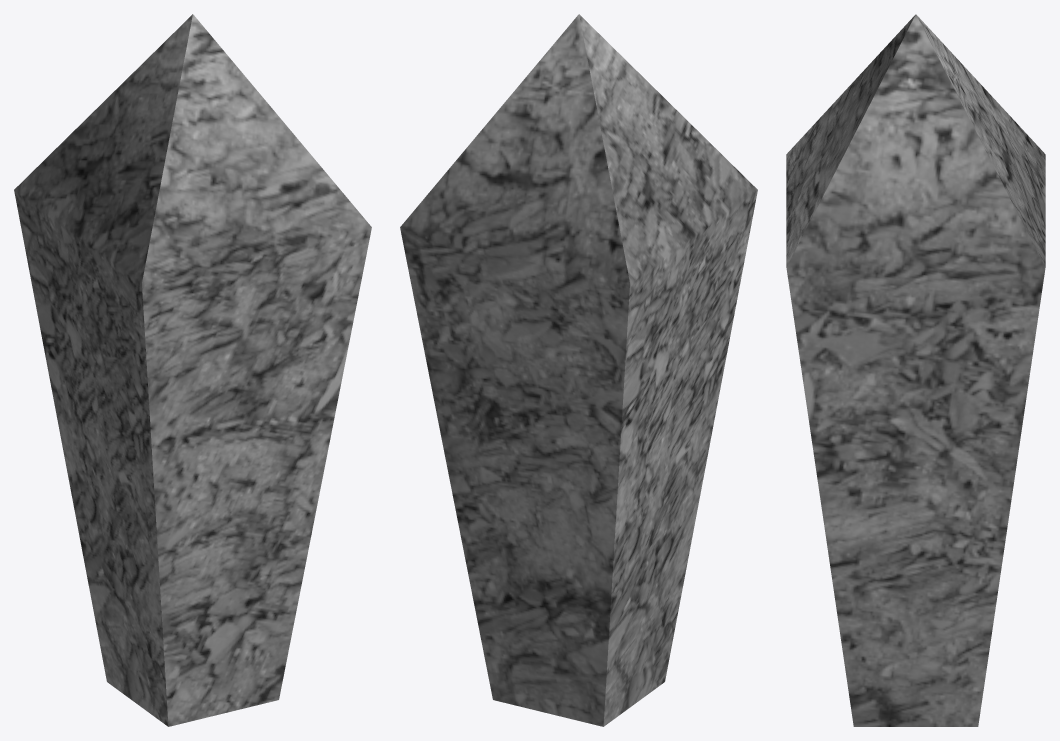
Rendered from Greyscale_Test.fbx.
3 views of the same model, side by side, from view 1: azimuth 30°, elevation 25°; view 2: azimuth 150°, elevation 25°; view 3: azimuth 270°, elevation 25° (orthographic).
Visible parts, largest first — view 1: pCube1; view 2: pCube1; view 3: pCube1.
Boxes of the visible parts, box(x1,y1,x2,y2) form: pCube1: box(14, 14, 371, 726); pCube1: box(400, 14, 757, 726); pCube1: box(786, 14, 1045, 726).
Bounding box in the file's own units: 4.36 × 12.27 × 4.2.
